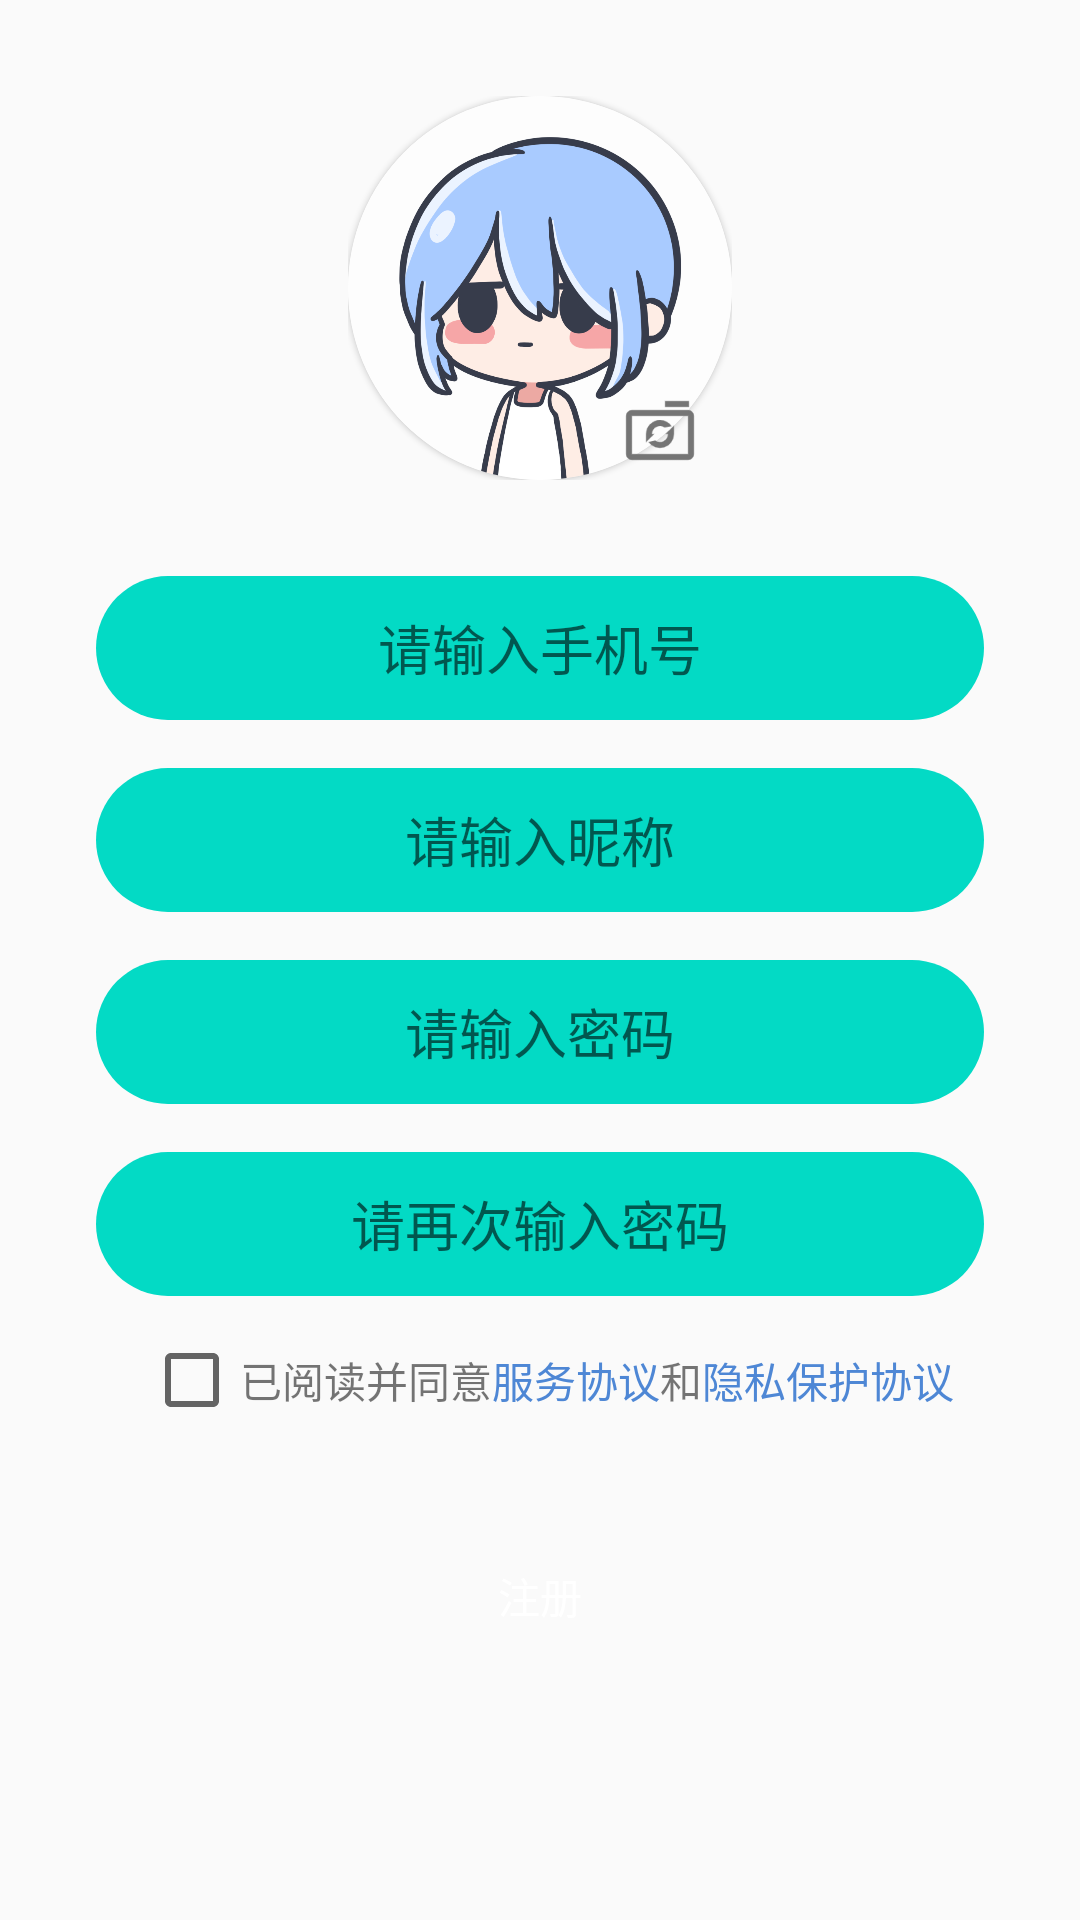

Where to tap for icons on this 1080w x 1920h app screen, as (x=x, y=y):
bitmap camera switching: (x=659, y=425)
